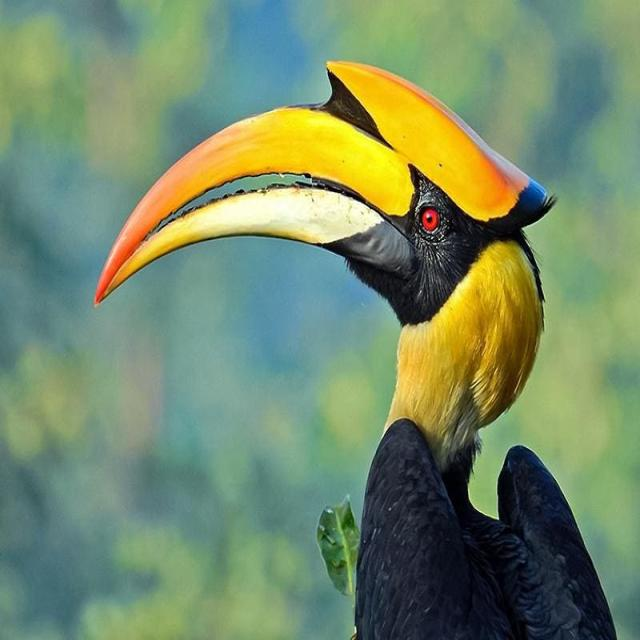Hornbill: (94, 57, 621, 640)
